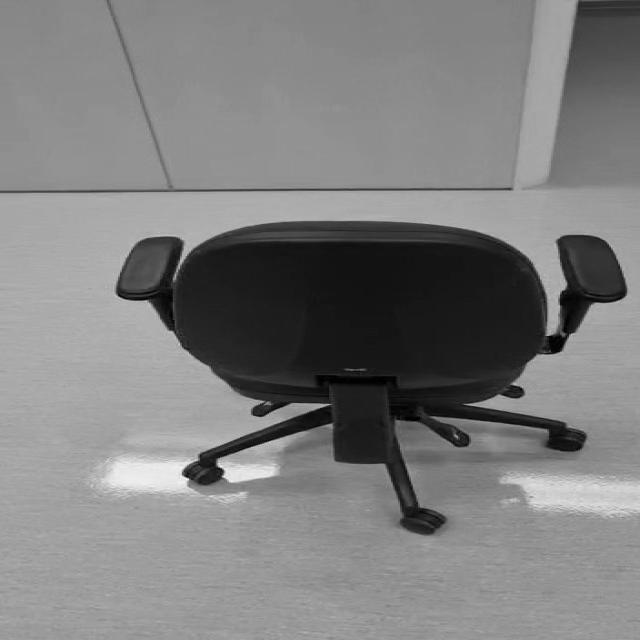chair: (116, 220, 626, 534)
